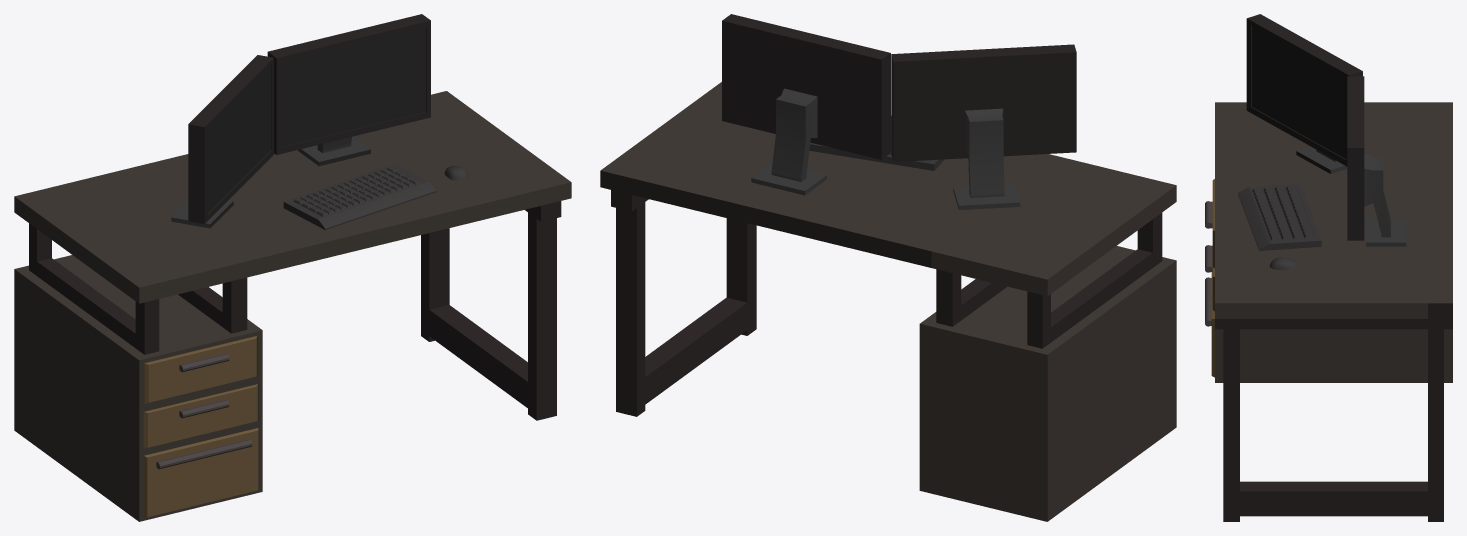
File: officeDeskAndMouseKeyboard.fbx
The picture shows the model from 3 angles, left to right: view 1: azimuth 30°, elevation 25°; view 2: azimuth 150°, elevation 25°; view 3: azimuth 270°, elevation 25°; orthographic projection. The views are drawn at different scales.
Visible parts, largest first — view 1: desk, monitor1, monitor, keyboard, deskwithall_polySurface4, deskwithall_polySurface2; view 2: desk, monitor, monitor1, keyboard; view 3: desk, monitor, monitor1, keyboard, deskwithall_polySurface4, deskwithall_polySurface2, mouse.
Part boxes in pixels (x1=…): desk: x1=14, y1=91, x2=571, y2=521; monitor1: x1=267, y1=14, x2=430, y2=166; monitor: x1=171, y1=55, x2=273, y2=228; keyboard: x1=283, y1=164, x2=436, y2=230; deskwithall_polySurface4: x1=144, y1=336, x2=257, y2=403; deskwithall_polySurface2: x1=143, y1=384, x2=257, y2=448; desk: x1=600, y1=82, x2=1176, y2=521; monitor: x1=891, y1=44, x2=1076, y2=209; monitor1: x1=722, y1=14, x2=890, y2=195; keyboard: x1=809, y1=131, x2=944, y2=170; desk: x1=1205, y1=102, x2=1452, y2=521; monitor: x1=1246, y1=14, x2=1362, y2=173; monitor1: x1=1347, y1=76, x2=1406, y2=246; keyboard: x1=1238, y1=184, x2=1321, y2=250; deskwithall_polySurface4: x1=1205, y1=179, x2=1214, y2=268; deskwithall_polySurface2: x1=1205, y1=245, x2=1214, y2=311; mouse: x1=1269, y1=257, x2=1298, y2=270.
Bounding box in the file's own units: 140 × 112 × 72.95.
